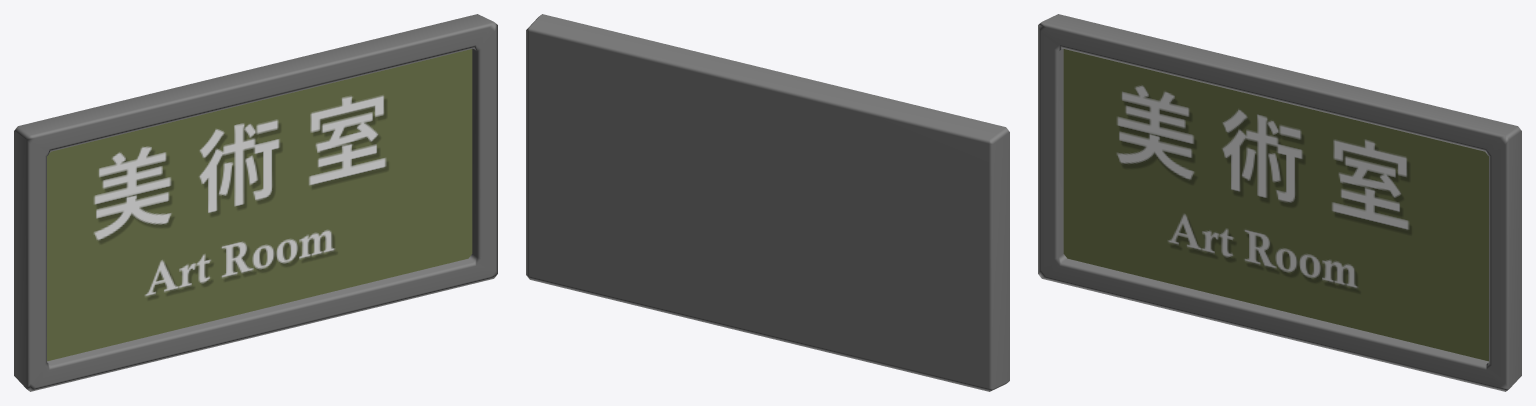
Rendered from SM_sign_artroom.fbx.
3 renders of one model, left to right at view 1: azimuth 30°, elevation 25°; view 2: azimuth 150°, elevation 25°; view 3: azimuth 330°, elevation 25°, orthographic.
Visible parts, largest first — view 1: sign_roomname06; view 2: sign_roomname06; view 3: sign_roomname06.
Boxes of the visible parts, left/top/right/bottom form: sign_roomname06: left=14, top=14, right=497, bottom=391; sign_roomname06: left=526, top=14, right=1009, bottom=391; sign_roomname06: left=1038, top=14, right=1521, bottom=391.
Bounding box in the file's own units: 28.58 × 14.88 × 1.67.
2 materials, 1 textured.
